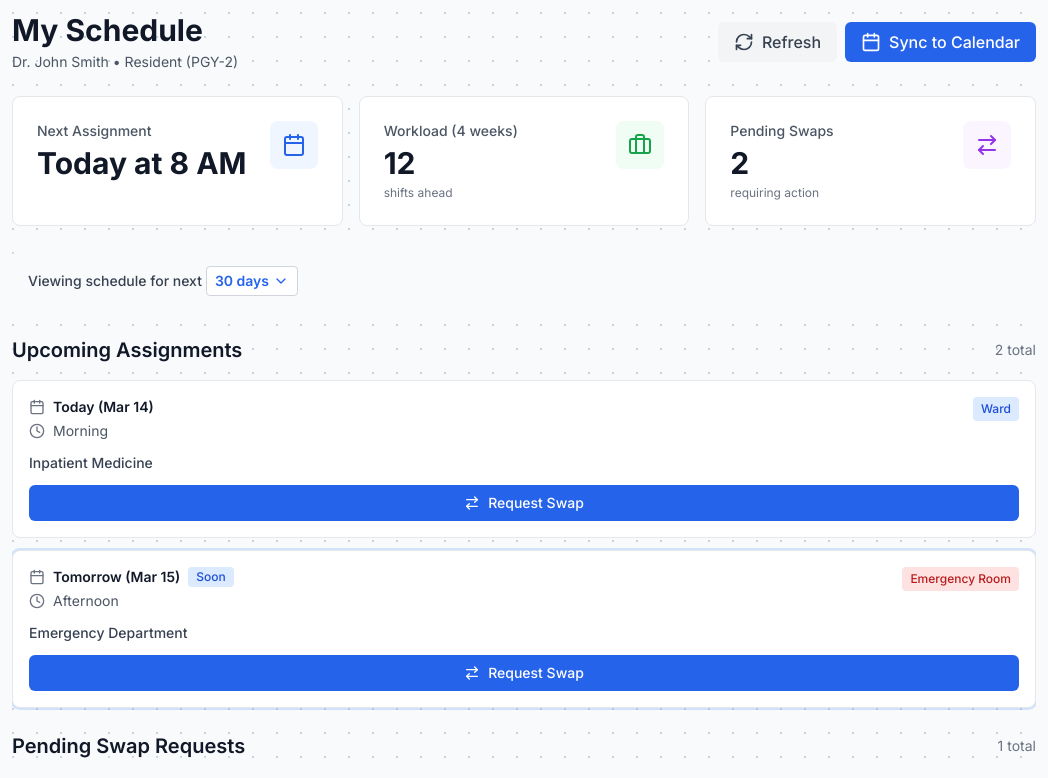
Scenario: MyLifeDashboard › Days Ahead Selector › should update days ahead when option is selected
Open selector
Click the button "30 days" at (252, 281), box [206, 266, 298, 296]
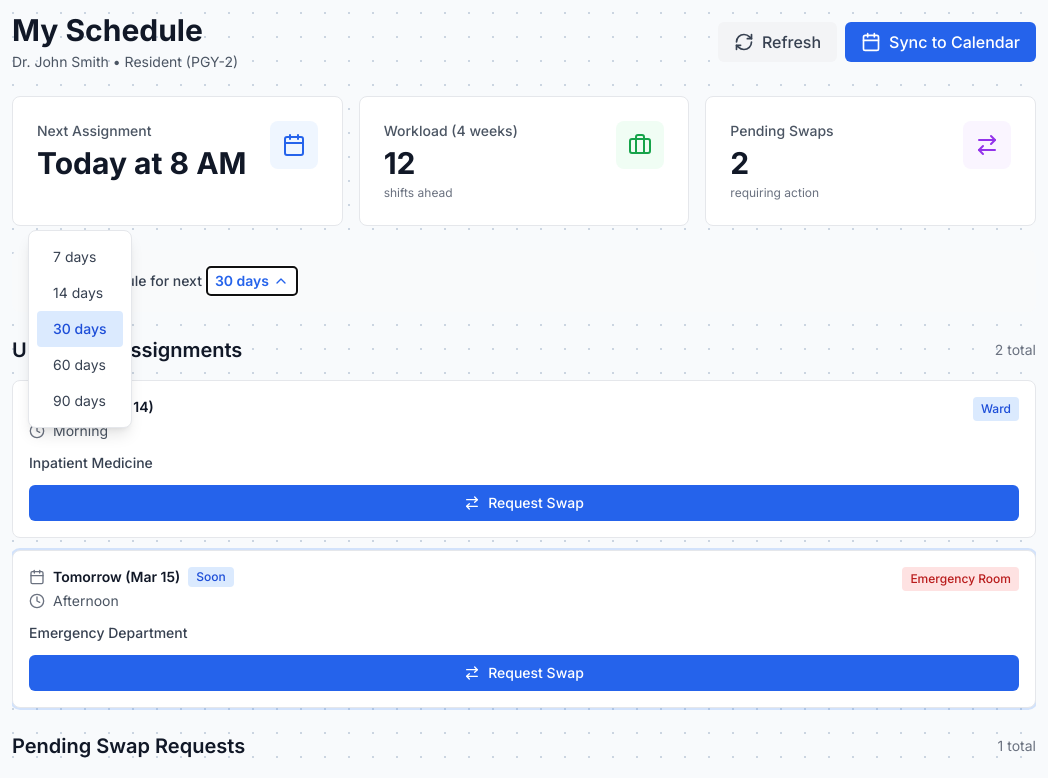
Select 60 days
Click the option "60 days" at (80, 365), box [37, 347, 122, 383]
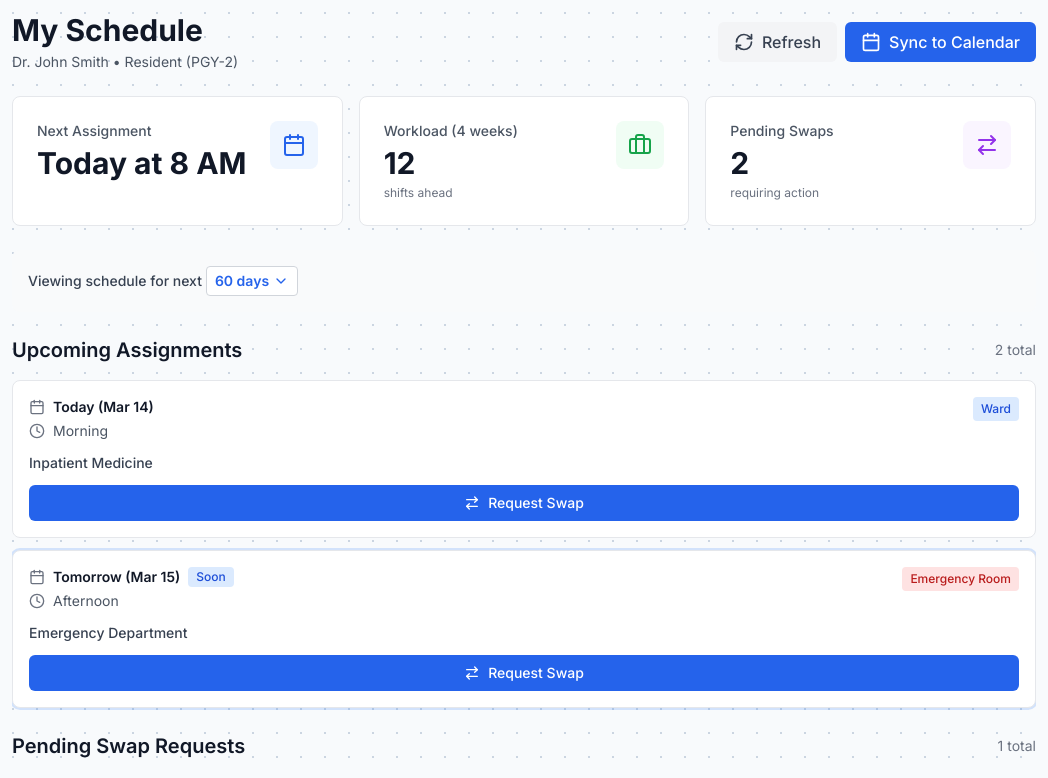
Now the button "60 days" is shown, box [206, 266, 298, 296]
